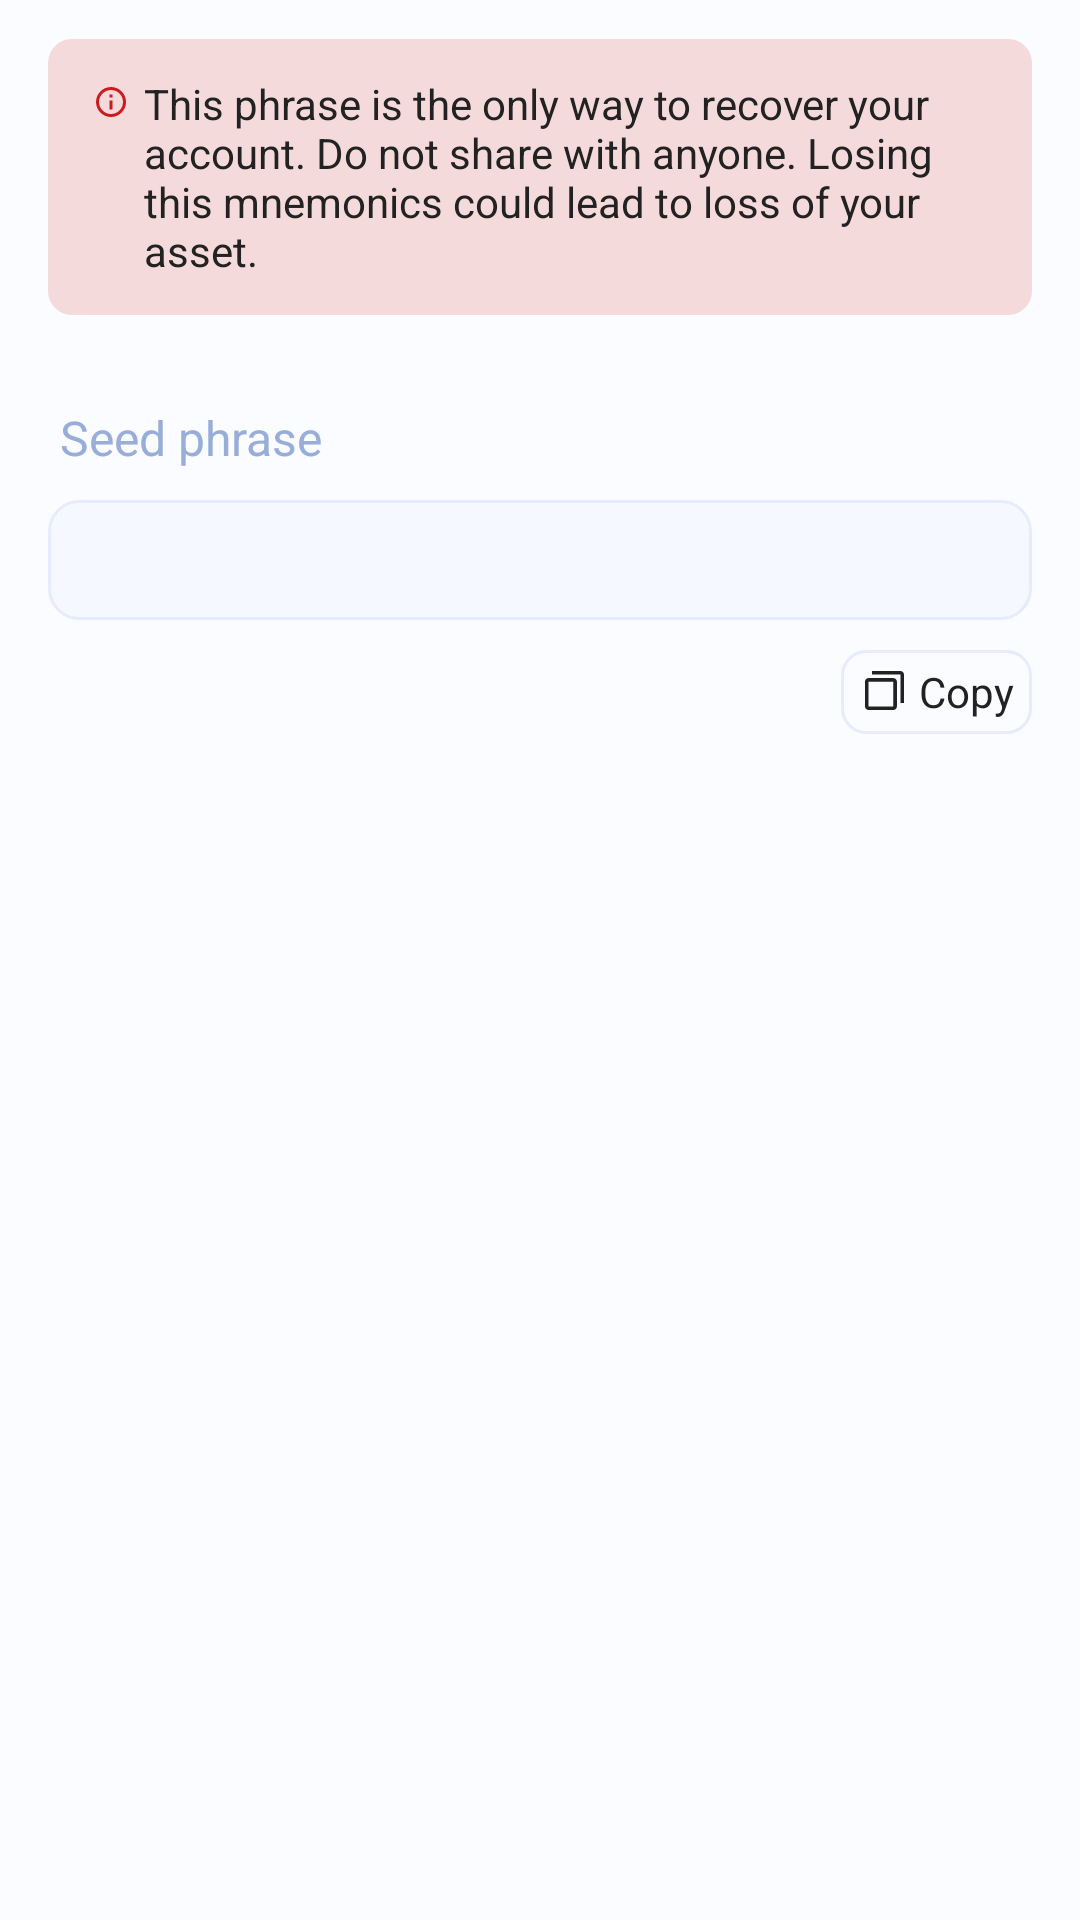

Icon bounding boxes for this 1080*1920 phone screenshot, format Rect(x1, y1, x2, y2):
info: Rect(96, 87, 126, 117)
